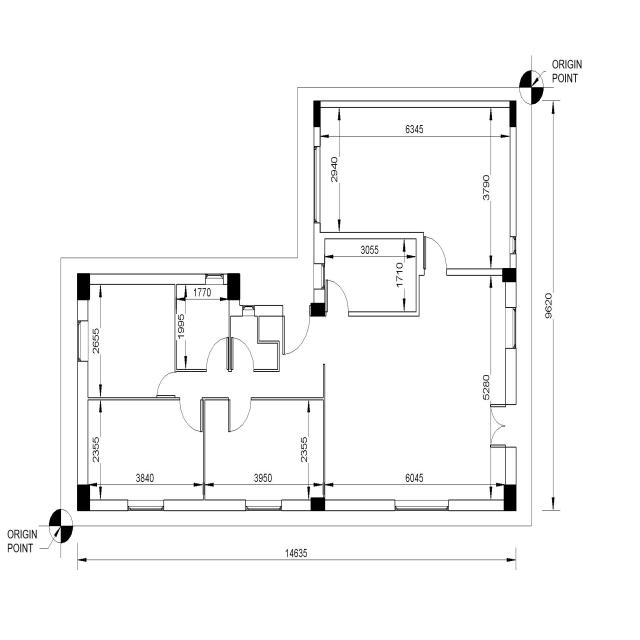Column: (77, 273, 90, 300), (227, 273, 240, 300), (77, 485, 90, 511), (504, 485, 516, 511), (310, 497, 326, 511), (502, 268, 516, 282), (311, 302, 325, 316), (509, 101, 516, 127), (314, 101, 320, 127)
Door: (283, 305, 310, 355), (424, 236, 447, 276), (228, 397, 252, 432), (231, 337, 254, 372), (326, 280, 348, 316), (206, 337, 228, 372), (180, 397, 202, 432), (156, 372, 176, 397)
Double-Door: (490, 404, 517, 448)
Window: (394, 500, 448, 511), (314, 146, 320, 223), (78, 321, 89, 362), (506, 307, 516, 349), (245, 500, 282, 511), (128, 500, 164, 511), (314, 264, 325, 290), (205, 274, 224, 284), (242, 305, 255, 317), (510, 237, 516, 254)
